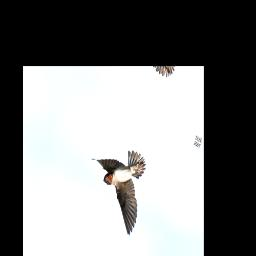Swallow: (77, 128, 155, 239)
